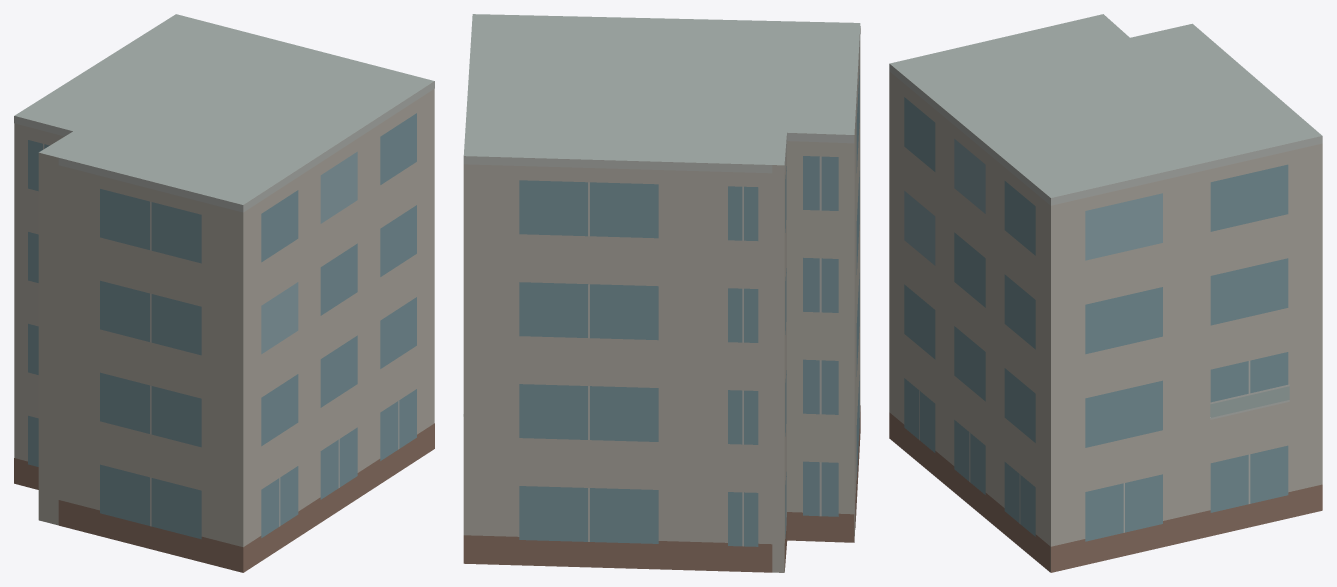
File: survey-upis-32829077.glb
3 renders of one model, left to right at view 1: azimuth 30°, elevation 25°; view 2: azimuth 150°, elevation 25°; view 3: azimuth 270°, elevation 25°, orthographic. The views are drawn at different scales.
Visible parts, largest first — view 1: survey-upis-32829077.tmp; view 2: survey-upis-32829077.tmp; view 3: survey-upis-32829077.tmp.
Part boxes in pixels (left/top/right/bottom): survey-upis-32829077.tmp: left=14, top=14, right=434, bottom=572; survey-upis-32829077.tmp: left=463, top=14, right=860, bottom=572; survey-upis-32829077.tmp: left=889, top=14, right=1322, bottom=572.
Bounding box in the file's own units: 12.62 × 11.97 × 12.55.
